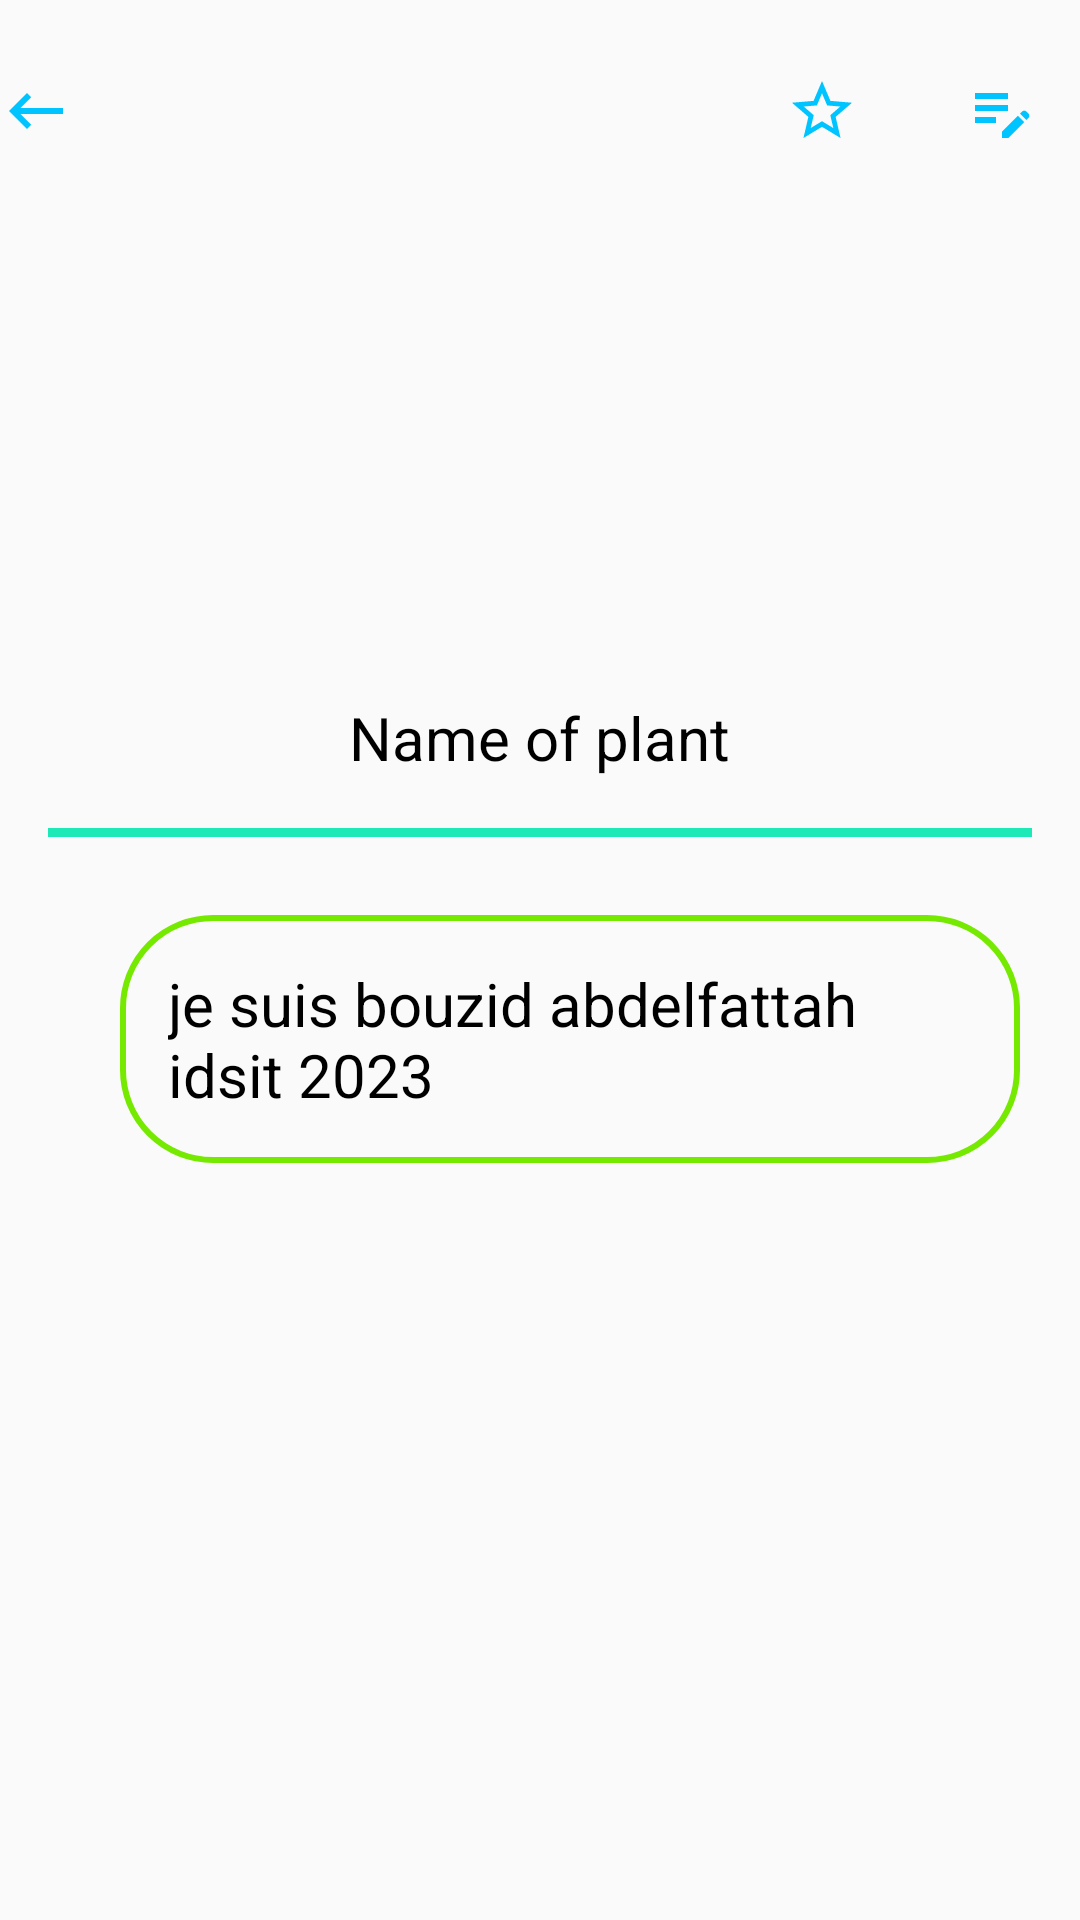

Screen size 1080×1920. Icon name, then its center in pixels as point (x, y):
backk: point (36, 111)
edit: point (1002, 115)
star: point (822, 109)
